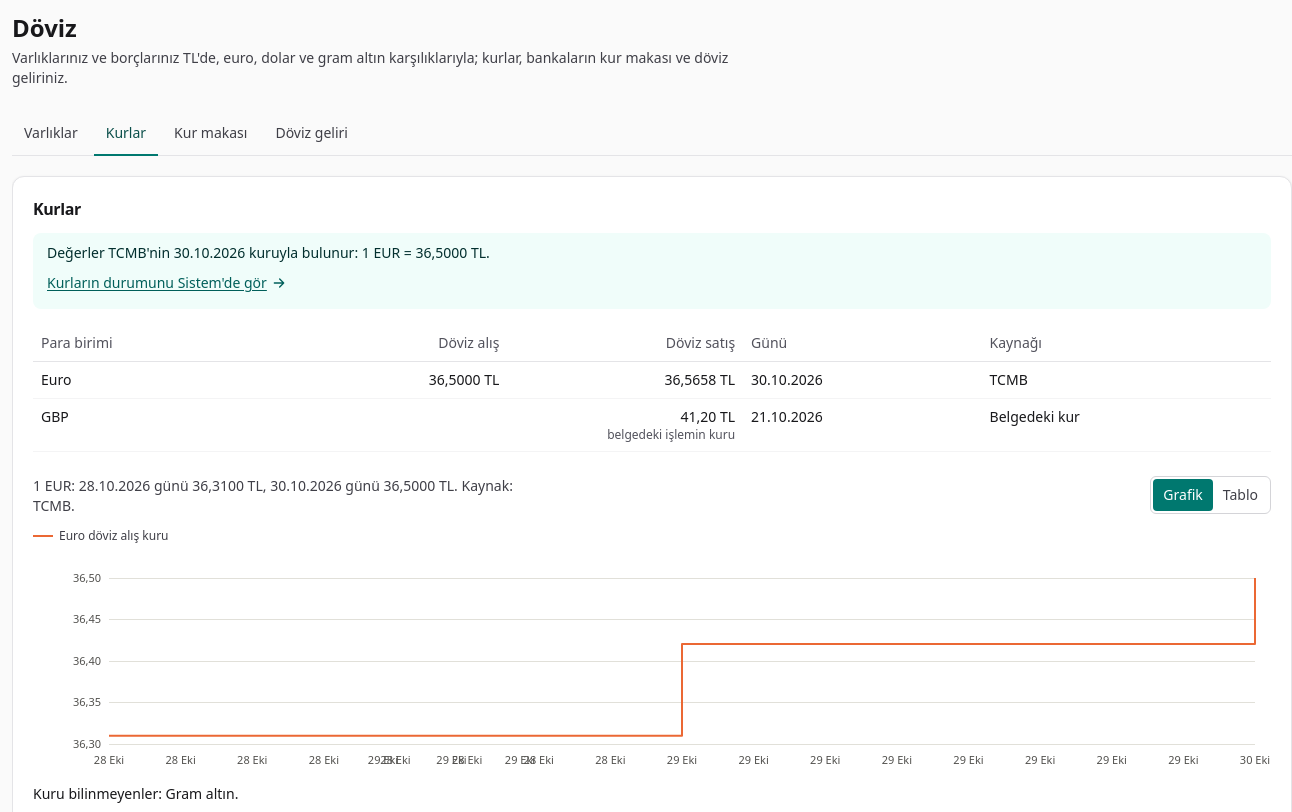
Test: FxPage, the rates › draws the providers' recent days of a currency with its window and numbers, and as a table
Expected: the text "1 EUR: 28.10.2026 günü 36,3100 TL, 30.10.2026 günü 36,5000 TL. Kaynak: TCMB." is shown, [33, 476, 554, 516]
Click the tab "Tablo" at (1240,495), box [1213, 479, 1268, 511]
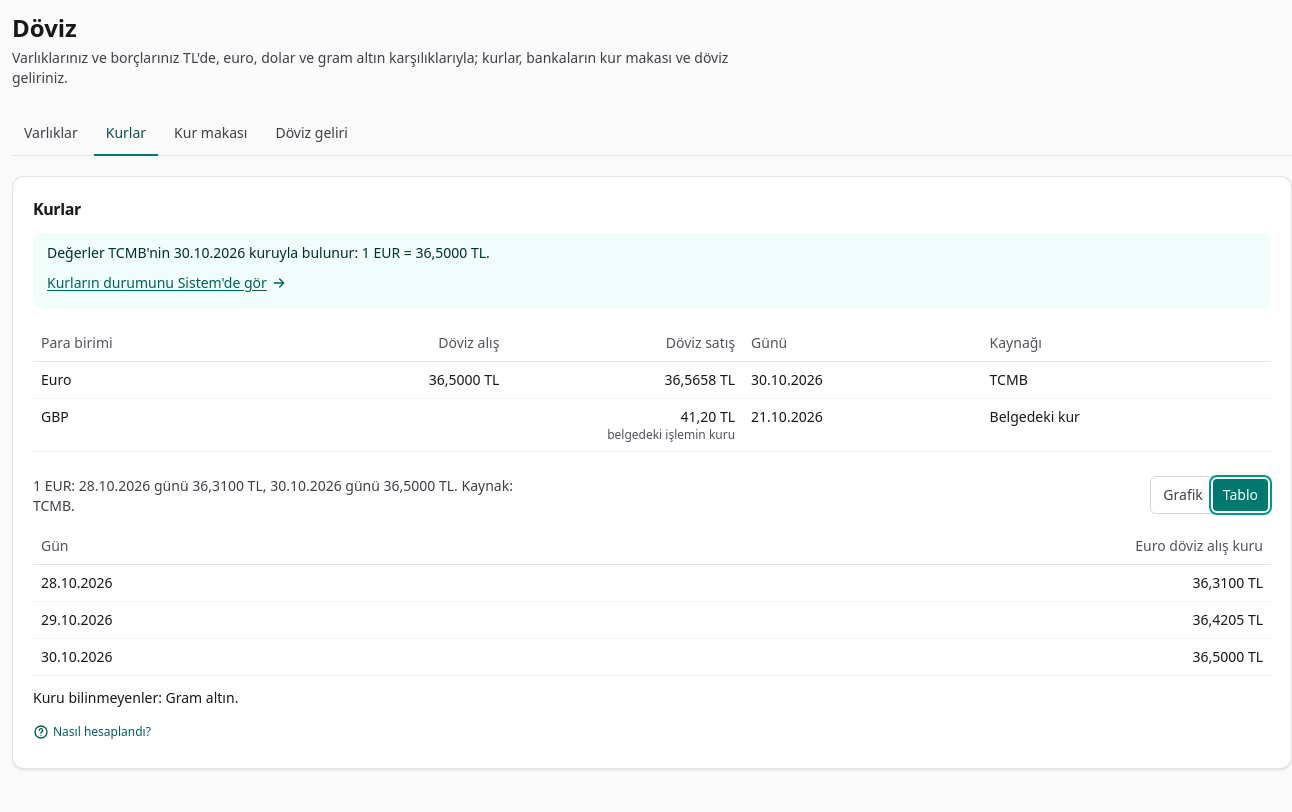
Now the text "36,4205 TL" is shown, box [502, 602, 1271, 638]
